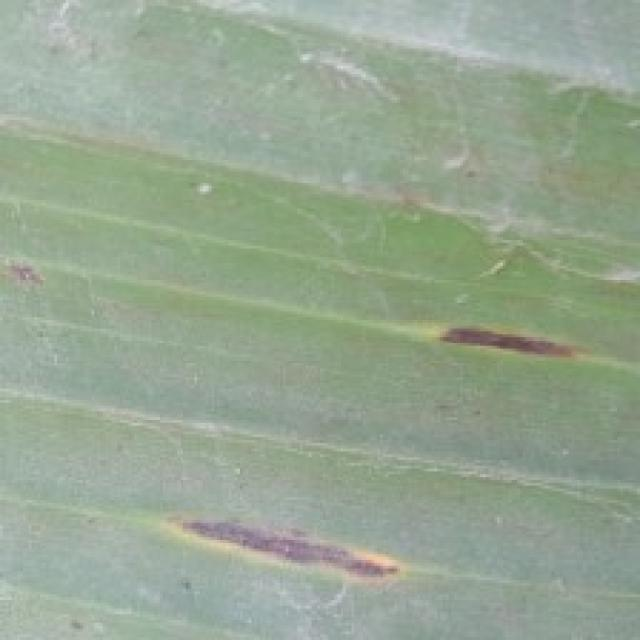Early_leaf_spot: (134, 484, 420, 614), (400, 290, 595, 390), (8, 260, 54, 319)
